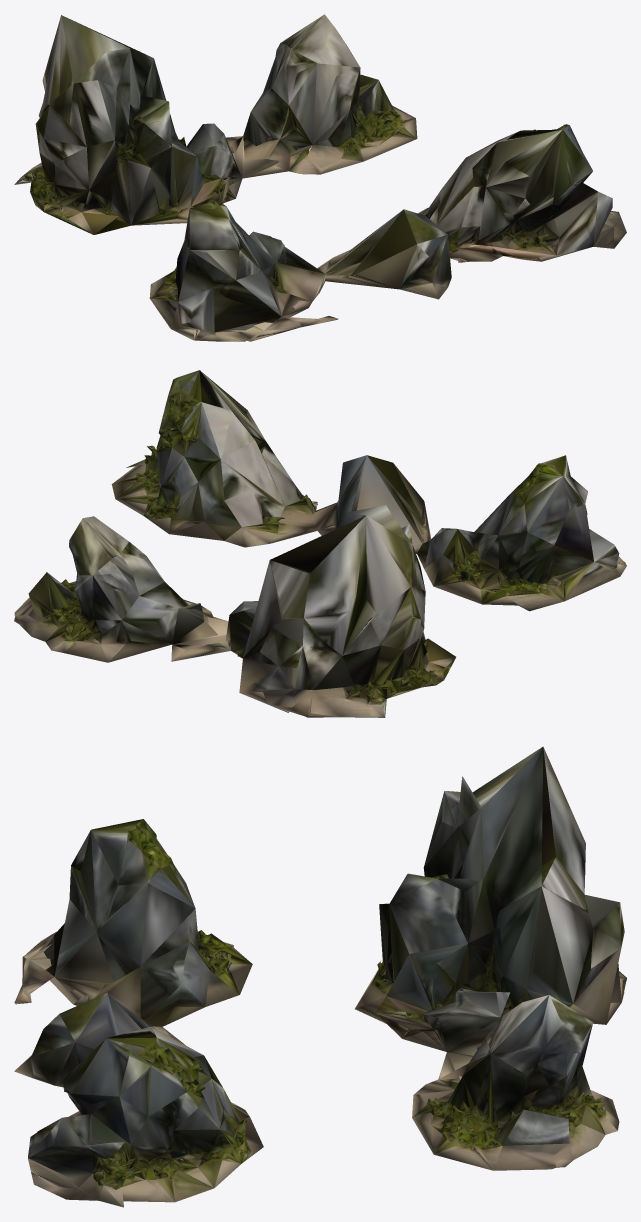
The model's file is fels-geroell.glb.
3 renders of one model, top to bottom at view 1: azimuth 30°, elevation 25°; view 2: azimuth 150°, elevation 25°; view 3: azimuth 270°, elevation 25°, orthographic. The views are drawn at different scales.
Parts seen in each view (by area): view 1: Mesh_0; view 2: Mesh_0; view 3: Mesh_0.
Part boxes in pixels (left/top/right/bottom): Mesh_0: left=14, top=14, right=626, bottom=341; Mesh_0: left=14, top=370, right=626, bottom=717; Mesh_0: left=14, top=746, right=626, bottom=1207.
Size of the model in its own units: 1.89 by 0.684 by 1.72.
Materials: 1 (1 with a texture image).
